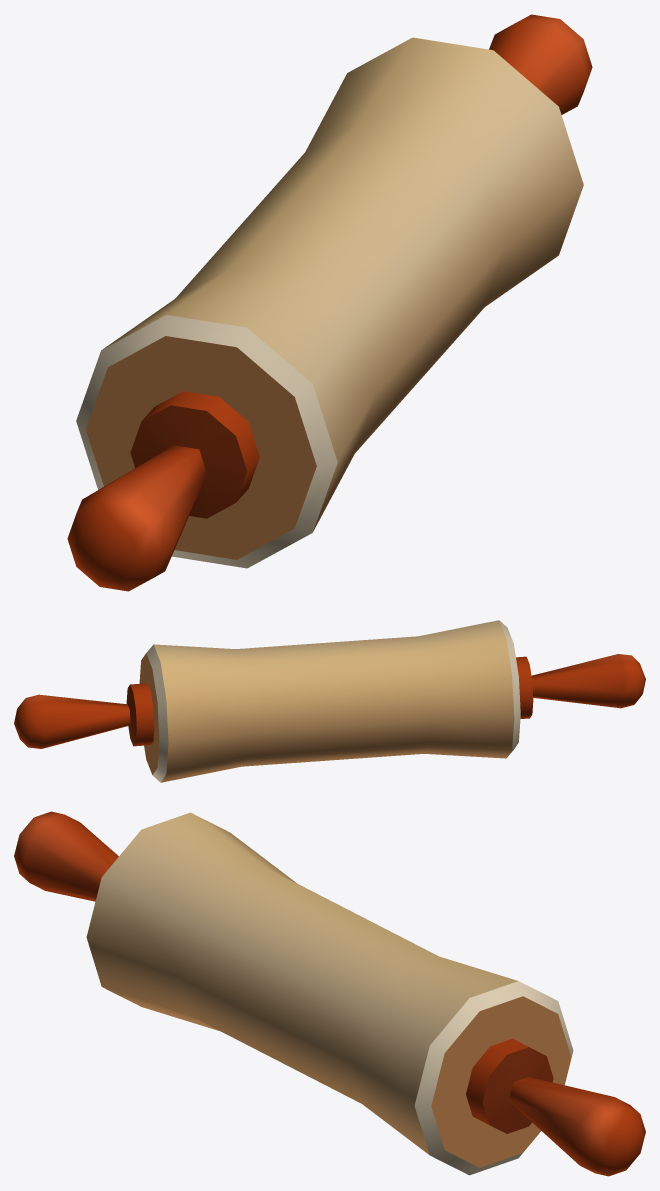
File: RestaurantRollingpin.fbx
The picture shows the model from 3 angles, top to bottom: view 1: azimuth 30°, elevation 25°; view 2: azimuth 150°, elevation 25°; view 3: azimuth 270°, elevation 25°; orthographic projection. The views are drawn at different scales.
Parts seen in each view (by area): view 1: RestaurantRollingpin; view 2: RestaurantRollingpin; view 3: RestaurantRollingpin.
Part boxes in pixels (x1=…): RestaurantRollingpin: x1=67, y1=14, x2=592, y2=591; RestaurantRollingpin: x1=14, y1=620, x2=645, y2=782; RestaurantRollingpin: x1=14, y1=811, x2=645, y2=1176.
Size of the model in its own units: 56.62 by 14.83 by 47.87.
